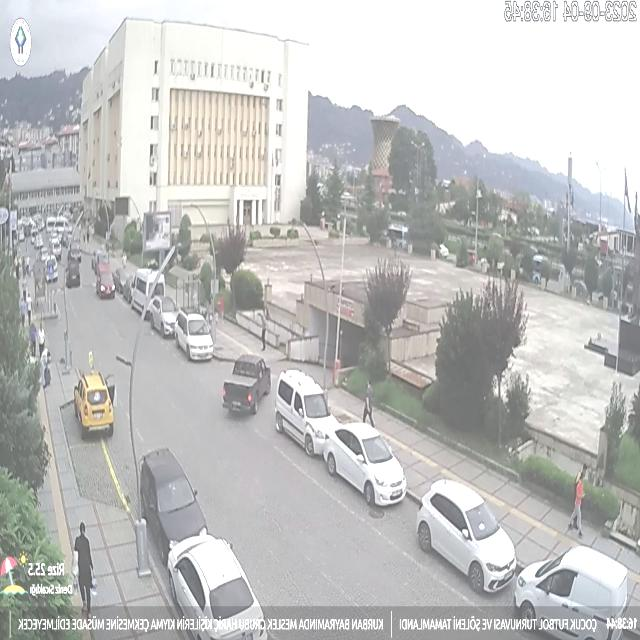Car: (418, 480, 518, 594), (166, 534, 266, 638), (138, 450, 209, 566), (322, 422, 406, 505), (278, 373, 340, 456), (74, 369, 118, 439), (222, 354, 270, 414), (174, 309, 214, 360), (147, 294, 180, 336), (94, 258, 116, 298), (65, 255, 82, 288), (112, 267, 130, 297), (44, 256, 58, 283), (68, 241, 82, 261)
Van: (513, 546, 628, 640), (132, 269, 167, 316)
